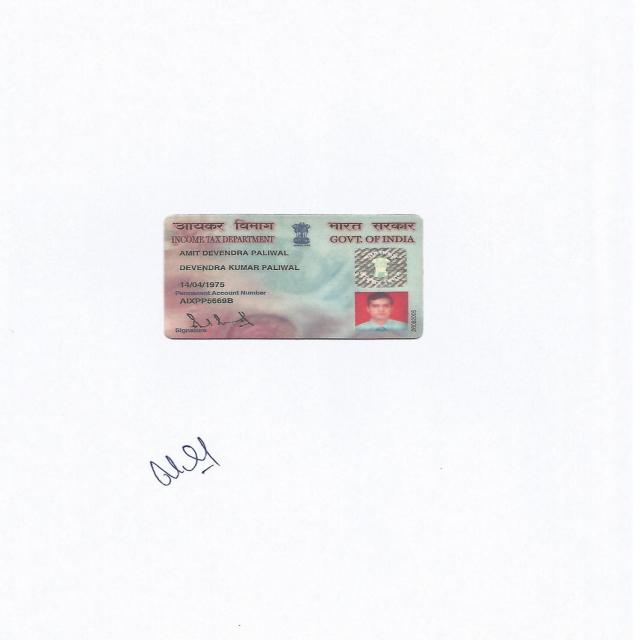pan_card: (163, 211, 424, 339)
